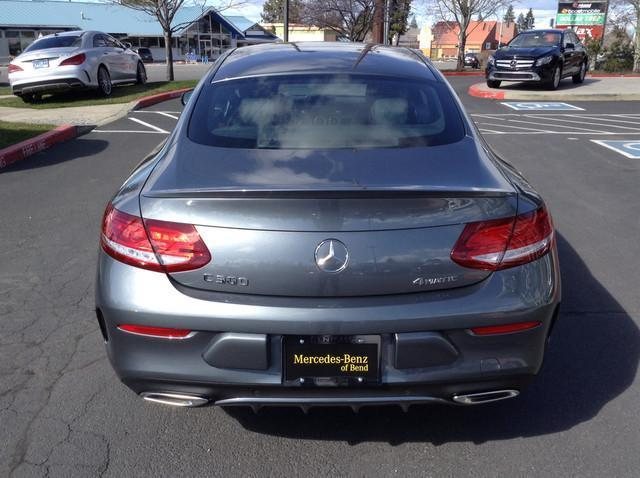C300Coupe: (85, 36, 570, 421)
